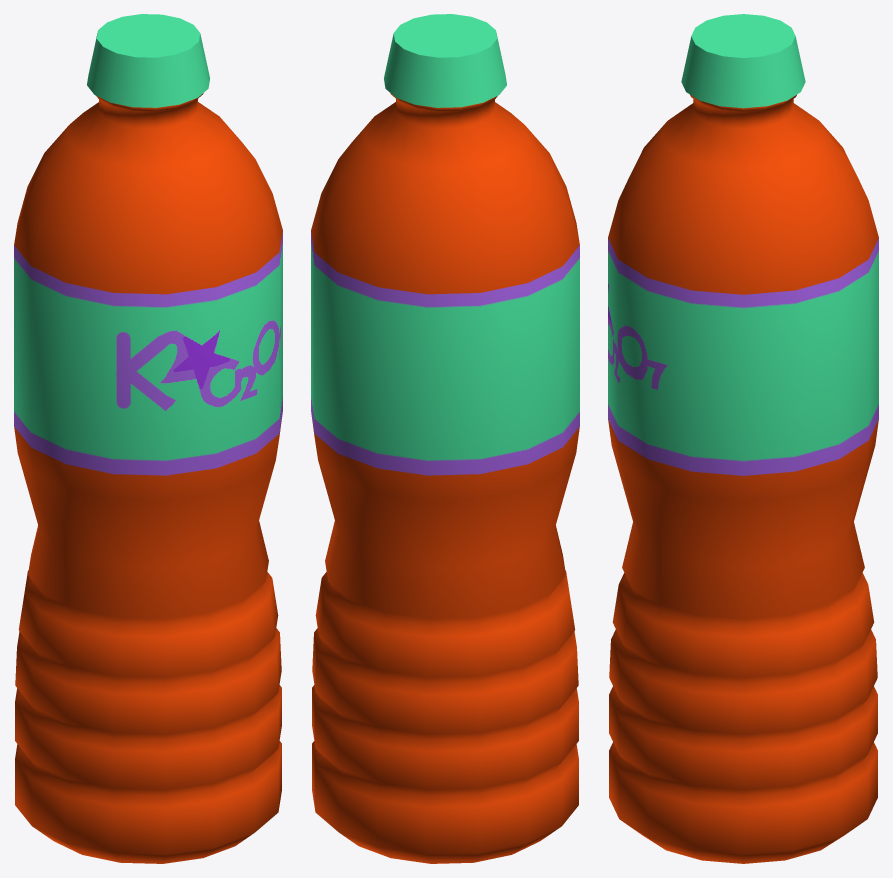
File: waterbottle02.glb
3 renders of one model, left to right at view 1: azimuth 30°, elevation 25°; view 2: azimuth 150°, elevation 25°; view 3: azimuth 270°, elevation 25°, orthographic.
Parts seen in each view (by area): view 1: Bottle, Cap; view 2: Bottle, Cap; view 3: Bottle, Cap.
Boxes of the visible parts, bbox=[...] form: Bottle: bbox=[14, 93, 282, 863]; Cap: bbox=[87, 14, 209, 107]; Bottle: bbox=[311, 93, 579, 863]; Cap: bbox=[384, 14, 506, 107]; Bottle: bbox=[608, 95, 878, 863]; Cap: bbox=[681, 14, 805, 108].
Bounding box in the file's own units: 0.0661 × 0.2112 × 0.0661.
1 material, 1 textured.
